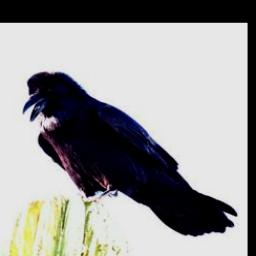Crow: (23, 70, 238, 236)
